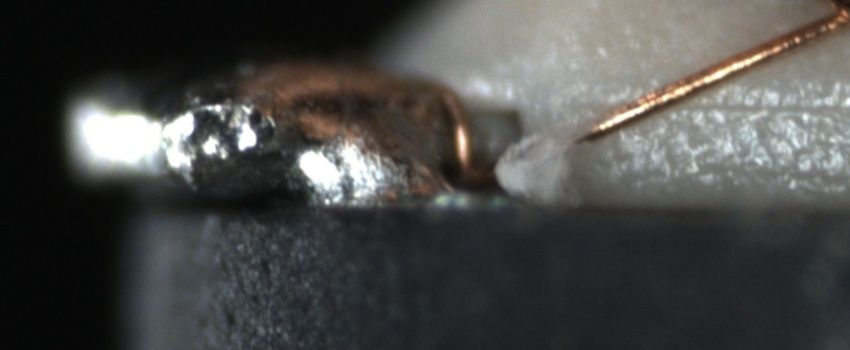DL: (575, 83, 850, 134)
TE: (417, 75, 485, 178)
